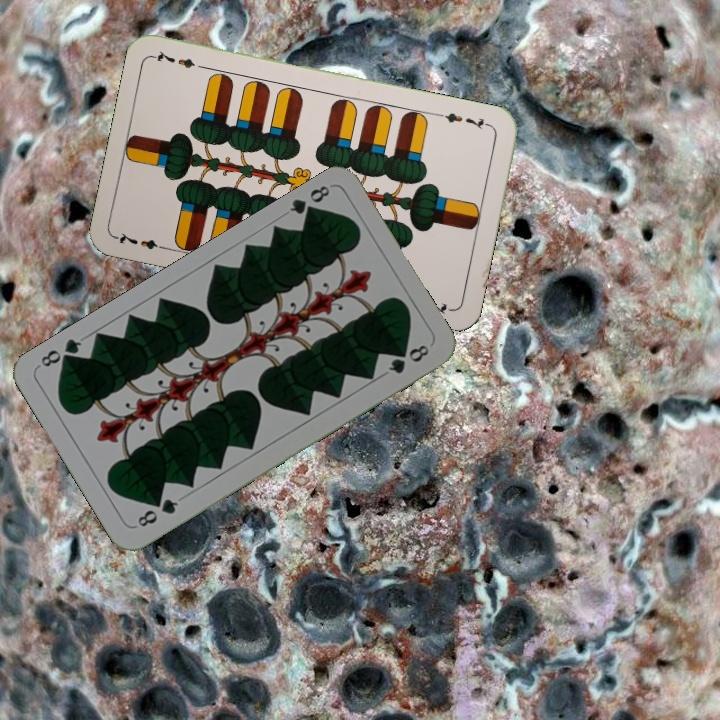E7: (113, 228, 171, 253), (435, 108, 493, 132)
G8: (285, 181, 333, 222), (133, 494, 181, 530)
